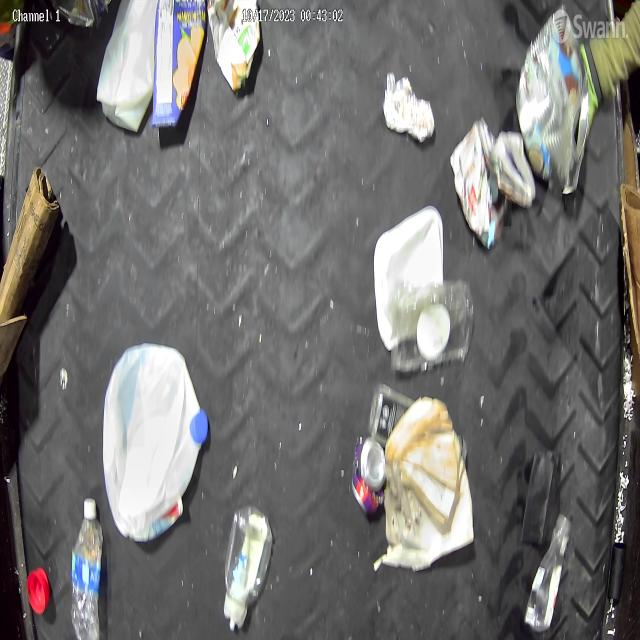can: (516, 5, 589, 194), (352, 434, 388, 518)
milk_jug: (104, 343, 209, 538), (96, 0, 156, 132)
plastic_bottle: (222, 506, 274, 635), (524, 509, 570, 635), (68, 498, 103, 638)
